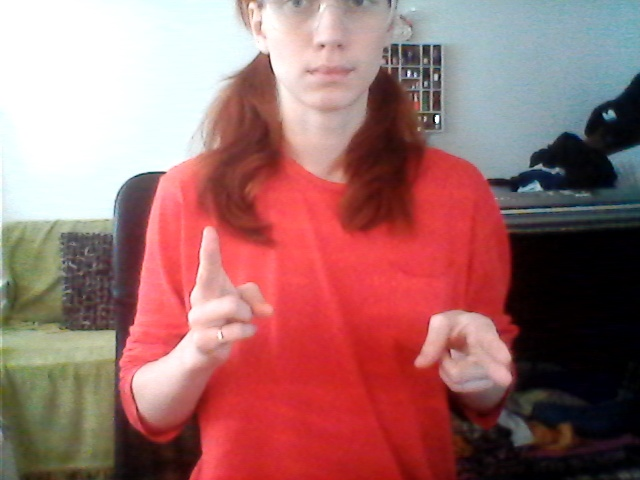ako: (187, 217, 517, 418)
